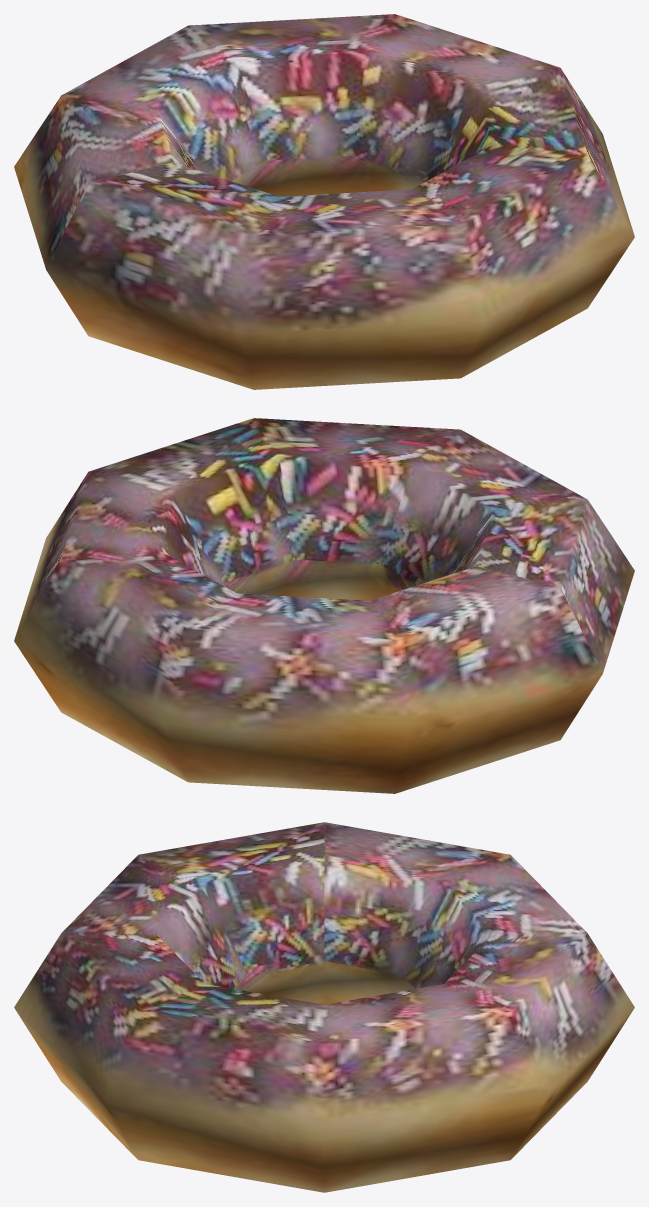
The model's file is donut.fbx.
The picture shows the model from 3 angles, top to bottom: view 1: azimuth 30°, elevation 25°; view 2: azimuth 150°, elevation 25°; view 3: azimuth 270°, elevation 25°; orthographic projection. The views are drawn at different scales.
Parts seen in each view (by area): view 1: Donuts; view 2: Donuts; view 3: Donuts.
Part boxes in pixels (<box>): Donuts: <box>14,14,634,389</box>; Donuts: <box>14,418,634,793</box>; Donuts: <box>14,822,634,1192</box>.
Size of the model in its own units: 18.82 by 4.95 by 18.82.
